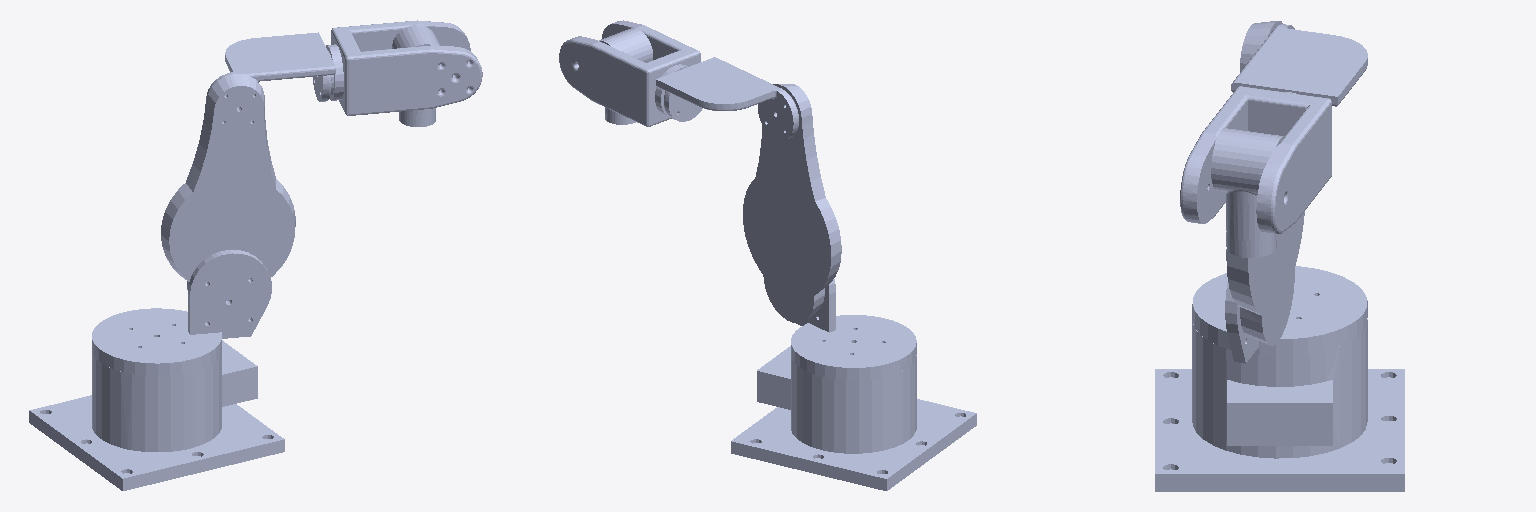
The robot description file, URDF, robot "arm":
<?xml version="1.0" encoding="utf-8"?>

<robot
  name="arm">
  <link name="world"/>
    <joint name="base_joint" type="fixed">
    <parent link="world"/>
    <child link="base_link"/>
    <origin rpy="0 0 0" xyz="0.0 0.0 0.0"/>
    </joint>
  <link
    name="base_link">
    <inertial>
      <origin
        xyz="0.00454 5.0344E-19 0.043904"
        rpy="0 0 0" />
      <mass
        value="2.0505" />
      <inertia
        ixx="0.0056758"
        ixy="-1.4455E-06"
        ixz="-0.0001356"
        iyy="0.0063396"
        iyz="3.9203E-19"
        izz="0.0080353" />
    </inertial>
    <visual>
      <origin
        xyz="0 0 0"
        rpy="0 0 0" />
      <geometry>
        <mesh
          filename="package://arm/meshes/base_link.STL" />
      </geometry>
      <material
        name="">
        <color
          rgba="0.79216 0.81961 0.93333 1" />
      </material>
    </visual>
    <collision>
      <origin
        xyz="0 0 0"
        rpy="0 0 0" />
      <geometry>
        <mesh
          filename="package://arm/meshes/base_link.STL" />
      </geometry>
    </collision>
  </link>
  <link
    name="link1">
    <inertial>
      <origin
        xyz="-0.0165851820536922 0.0198248420561835 1.29196467081314E-17"
        rpy="0 0 0" />
      <mass
        value="0.341403227211465" />
      <inertia
        ixx="0.000523987311929827"
        ixy="0.000228003098719372"
        ixz="-1.35525271560688E-20"
        iyy="0.00103882554770759"
        iyz="9.93855627713572E-20"
        izz="0.000912685857461658" />
    </inertial>
    <visual>
      <origin
        xyz="0 0 0"
        rpy="0 0 0" />
      <geometry>
        <mesh
          filename="package://arm/meshes/link1.STL" />
      </geometry>
      <material
        name="">
        <color
          rgba="0.792156862745098 0.819607843137255 0.933333333333333 1" />
      </material>
    </visual>
    <collision>
      <origin
        xyz="0 0 0"
        rpy="0 0 0" />
      <geometry>
        <mesh
          filename="package://arm/meshes/link1.STL" />
      </geometry>
    </collision>
  </link>
  <joint
    name="joint1"
    type="revolute">
    <origin
      xyz="0 0 0.102"
      rpy="1.5708 0 2.8234" />
    <parent
      link="base_link" />
    <child
      link="link1" />
    <axis
      xyz="0 1 0" />
    <limit
      lower="0"
      upper="3.14"
      effort="200"
      velocity="3" />
  </joint>
  <link
    name="link2">
    <inertial>
      <origin
        xyz="-0.00253801080546613 0.0874702351949345 -0.0152242023784491"
        rpy="0 0 0" />
      <mass
        value="0.503295608647703" />
      <inertia
        ixx="0.0023896543003432"
        ixy="5.46745815915286E-05"
        ixz="-2.61715638360843E-08"
        iyy="0.000506930970206144"
        iyz="9.01979155585334E-07"
        izz="0.0028630761368727" />
    </inertial>
    <visual>
      <origin
        xyz="0 0 0"
        rpy="0 0 0" />
      <geometry>
        <mesh
          filename="package://arm/meshes/link2.STL" />
      </geometry>
      <material
        name="">
        <color
          rgba="0.792156862745098 0.819607843137255 0.933333333333333 1" />
      </material>
    </visual>
    <collision>
      <origin
        xyz="0 0 0"
        rpy="0 0 0" />
      <geometry>
        <mesh
          filename="package://arm/meshes/link2.STL" />
      </geometry>
    </collision>
  </link>
  <joint
    name="joint2"
    type="revolute">
    <origin
      xyz="-0.08 0.065 0"
      rpy="3.1416 0 -3.0606" />
    <parent
      link="link1" />
    <child
      link="link2" />
    <axis
      xyz="0 0 1" />
    <limit
      lower="-1.57"
      upper="1.57"
      effort="200"
      velocity="3" />
  </joint>
  <link
    name="link3">
    <inertial>
      <origin
        xyz="-0.0546410151359203 -0.0156665050795676 -0.0629455434682081"
        rpy="0 0 0" />
      <mass
        value="0.144946958051523" />
      <inertia
        ixx="0.000135754983939423"
        ixy="-2.98551490024951E-06"
        ixz="-6.83999282705665E-05"
        iyy="0.000338849278908837"
        iyz="-1.41783474668167E-05"
        izz="0.000271540193533391" />
    </inertial>
    <visual>
      <origin
        xyz="0 0 0"
        rpy="0 0 0" />
      <geometry>
        <mesh
          filename="package://arm/meshes/link3.STL" />
      </geometry>
      <material
        name="">
        <color
          rgba="0.792156862745098 0.819607843137255 0.933333333333333 1" />
      </material>
    </visual>
    <collision>
      <origin
        xyz="0 0 0"
        rpy="0 0 0" />
      <geometry>
        <mesh
          filename="package://arm/meshes/link3.STL" />
      </geometry>
    </collision>
  </link>
  <joint
    name="joint3"
    type="revolute">
    <origin
      xyz="-0.0060933 0.21 0"
      rpy="0 0 -3.0606" />
    <parent
      link="link2" />
    <child
      link="link3" />
    <axis
      xyz="0 0 -1" />
    <limit
      lower="0"
      upper="1.57"
      effort="200"
      velocity="3" />
  </joint>
  <link
    name="link4">
    <inertial>
      <origin
        xyz="0.0898005356350614 0.000158542658396821 -5.73070249655222E-05"
        rpy="0 0 0" />
      <mass
        value="0.396670722958423" />
      <inertia
        ixx="0.000475732486516835"
        ixy="-2.2429432084741E-06"
        ixz="1.52051078574993E-06"
        iyy="0.00115446464253335"
        iyz="-3.72122735178283E-09"
        izz="0.00096424722818442" />
    </inertial>
    <visual>
      <origin
        xyz="0 0 0"
        rpy="0 0 0" />
      <geometry>
        <mesh
          filename="package://arm/meshes/link4.STL" />
      </geometry>
      <material
        name="">
        <color
          rgba="0.792156862745098 0.819607843137255 0.933333333333333 1" />
      </material>
    </visual>
    <collision>
      <origin
        xyz="0 0 0"
        rpy="0 0 0" />
      <geometry>
        <mesh
          filename="package://arm/meshes/link4.STL" />
      </geometry>
    </collision>
  </link>
  <joint
    name="joint4"
    type="revolute">
    <origin
      xyz="-0.086226 0 -0.075"
      rpy="0 0 3.1416" />
    <parent
      link="link3" />
    <child
      link="link4" />
    <axis
      xyz="-1 0 0" />
    <limit
      lower="-1.57"
      upper="1.57"
      effort="200"
      velocity="3" />
  </joint>
  <link
    name="link5">
    <inertial>
      <origin
        xyz="0.0148584280750408 -2.47878737535956E-08 3.20028221978408E-08"
        rpy="0 0 0" />
      <mass
        value="0.142153029505553" />
      <inertia
        ixx="4.21928202717411E-05"
        ixy="1.23505500664247E-11"
        ixz="-8.5145842813175E-11"
        iyy="0.000101957952783782"
        iyz="-1.94304413260704E-10"
        izz="9.99593210668307E-05" />
    </inertial>
    <visual>
      <origin
        xyz="0 0 0"
        rpy="0 0 0" />
      <geometry>
        <mesh
          filename="package://arm/meshes/link5.STL" />
      </geometry>
      <material
        name="">
        <color
          rgba="0.792156862745098 0.819607843137255 0.933333333333333 1" />
      </material>
    </visual>
    <collision>
      <origin
        xyz="0 0 0"
        rpy="0 0 0" />
      <geometry>
        <mesh
          filename="package://arm/meshes/link5.STL" />
      </geometry>
    </collision>
  </link>
  <joint
    name="joint5"
    type="revolute">
    <origin
      xyz="0.12548 0.010891 0"
      rpy="-3.1416 0 -1.6015" />
    <parent
      link="link4" />
    <child
      link="link5" />
    <axis
      xyz="0 0 1" />
    <limit
      lower="-1.57"
      upper="1.57"
      effort="200"
      velocity="3" />
  </joint>
  <link
    name="link6">
    <inertial>
      <origin
        xyz="0 0 0.0100004236191986"
        rpy="0 0 0" />
      <mass
        value="0.0140162367291585" />
      <inertia
        ixx="1.7751336371123E-06"
        ixy="1.58818677610181E-22"
        ixz="3.29217883796105E-21"
        iyy="1.7751336371123E-06"
        iyz="2.68006518467181E-22"
        izz="3.16425643794375E-06" />
    </inertial>
    <visual>
      <origin
        xyz="0 0 0"
        rpy="0 0 0" />
      <geometry>
        <mesh
          filename="package://arm/meshes/link6.STL" />
      </geometry>
      <material
        name="">
        <color
          rgba="0.792156862745098 0.819607843137255 0.933333333333333 1" />
      </material>
    </visual>
    <collision>
      <origin
        xyz="0 0 0"
        rpy="0 0 0" />
      <geometry>
        <mesh
          filename="package://arm/meshes/link6.STL" />
      </geometry>
    </collision>
  </link>
  <joint
    name="joint6"
    type="revolute">
    <origin
      xyz="0.058072 0 0"
      rpy="1.5708 -0.70754 1.5708" />
    <parent
      link="link5" />
    <child
      link="link6" />
    <axis
      xyz="0 0 1" />
    <limit
      lower="0"
      upper="3.14"
      effort="200"
      velocity="3" />
  </joint>
  <ros2_control name="GazeboSystem" type="system">
    <hardware>
    <plugin>gazebo_ros2_control/GazeboSystem</plugin>
    </hardware>
    
    <joint name="joint1">
    <command_interface name="position">
    <param name="min">0</param>
    <param name="max">3.14</param>
    </command_interface>
    <state_interface name="position">
    <param name="initial_value">0</param>
    </state_interface>
    <state_interface name="velocity"/>
    </joint>
    
    <joint name="joint2">
    <command_interface name="position">
    <param name="min">-1.57</param>
    <param name="max">1.57</param>
    </command_interface>
    <state_interface name="position">
    <param name="initial_value">0</param>
    </state_interface>
    <state_interface name="velocity"/>
    </joint>
    
    <joint name="joint3">
    <command_interface name="position">
    <param name="min">0</param>
    <param name="max">1.57</param>
    </command_interface>
    <state_interface name="position">
    <param name="initial_value">0</param>
    </state_interface>
    <state_interface name="velocity"/>
    </joint>
    
    <joint name="joint4">
    <command_interface name="position">
    <param name="min">-1.57</param>
    <param name="max">1.57</param>
    </command_interface>
    <state_interface name="position">
    <param name="initial_value">0</param>
    </state_interface>
    <state_interface name="velocity"/>
    </joint>
    
    <joint name="joint5">
    <command_interface name="position">
    <param name="min">-1.57</param>
    <param name="max">1.57</param>
    </command_interface>
    <state_interface name="position">
    <param name="initial_value">0</param>
    </state_interface>
    <state_interface name="velocity"/>
    </joint>
    
    <joint name="joint6">
    <command_interface name="position">
    <param name="min">0</param>
    <param name="max">3.14</param>
    </command_interface>
    <state_interface name="position">
    <param name="initial_value">0</param>
    </state_interface>
    <state_interface name="velocity"/>
    </joint>

  </ros2_control>
  <gazebo>
    <plugin filename="libgazebo_ros2_control.so" name="gazebo_ros2_control">
      <parameters>[local-path]/colcon_ws/src/arm/config/joint_controller.yaml</parameters>
    </plugin>
  </gazebo>
</robot>

--- Render facts (derived) ---
3 views of the same robot in one strip: view 1: azimuth 30°, elevation 25°; view 2: azimuth 150°, elevation 25°; view 3: azimuth 270°, elevation 25° (orthographic).
Robot: arm — 8 links, 7 joints (6 revolute, 1 fixed); root link world; default pose: all joints at 0.
Visible links, largest first — view 1: base_link, link2, link1, link4, link3, link5; view 2: base_link, link2, link4, link1, link3, link5; view 3: base_link, link4, link1, link3, link2, link5, link6.
Boxes of the visible links, x1,y1,x2,y2 form: base_link: (29,340,284,490); link2: (161,74,295,300); link1: (92,250,271,375); link4: (326,20,482,115); link3: (206,32,335,101); link5: (392,25,439,114); base_link: (731,346,976,490); link2: (743,84,841,322); link4: (559,20,700,126); link1: (791,279,916,379); link3: (656,57,798,140); link5: (599,28,652,111); base_link: (1155,319,1404,491); link4: (1180,86,1331,234); link1: (1192,266,1367,363); link3: (1231,24,1367,106); link2: (1226,21,1304,345); link5: (1211,128,1284,240); link6: (1226,231,1276,257).
Size in the robot's own frame: 0.4808 by 0.2 by 0.4127 metres.
7 mesh visuals loaded from 7 distinct referenced files (7 binary STL).